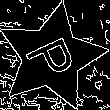P_NE: (20, 29, 83, 85)
